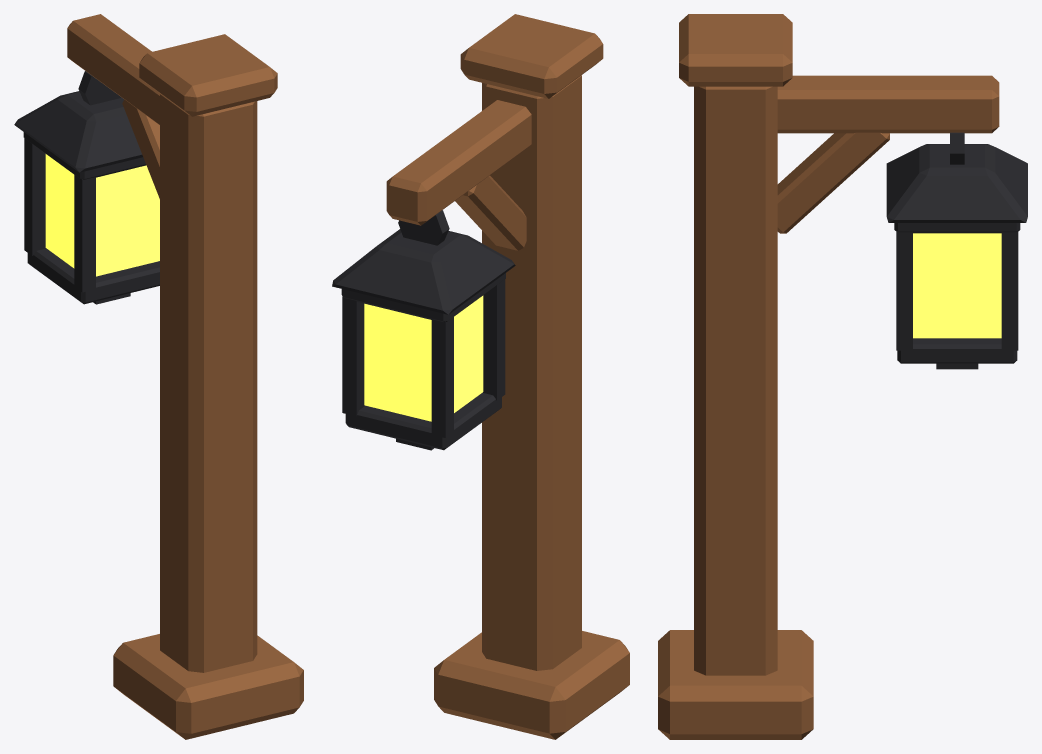
The model's file is lantern_post.glb.
3 views of the same model, side by side, from view 1: azimuth 30°, elevation 25°; view 2: azimuth 150°, elevation 25°; view 3: azimuth 270°, elevation 25° (orthographic). The views are drawn at different scales.
Parts seen in each view (by area): view 1: Wood__96623A, Metal__2A2A2E, Neon__FFD246; view 2: Wood__96623A, Metal__2A2A2E, Neon__FFD246; view 3: Wood__96623A, Metal__2A2A2E, Neon__FFD246.
Boxes of the visible parts, box(x1,y1,x2,y2) form: Wood__96623A: box(67, 14, 303, 739); Metal__2A2A2E: box(14, 71, 159, 304); Neon__FFD246: box(45, 154, 159, 276); Wood__96623A: box(386, 14, 629, 739); Metal__2A2A2E: box(332, 210, 515, 450); Neon__FFD246: box(364, 295, 483, 421); Wood__96623A: box(658, 14, 999, 739); Metal__2A2A2E: box(886, 132, 1027, 369); Neon__FFD246: box(913, 233, 1001, 338).
Size of the model in its own units: 1.3 by 6.25 by 3.09.
